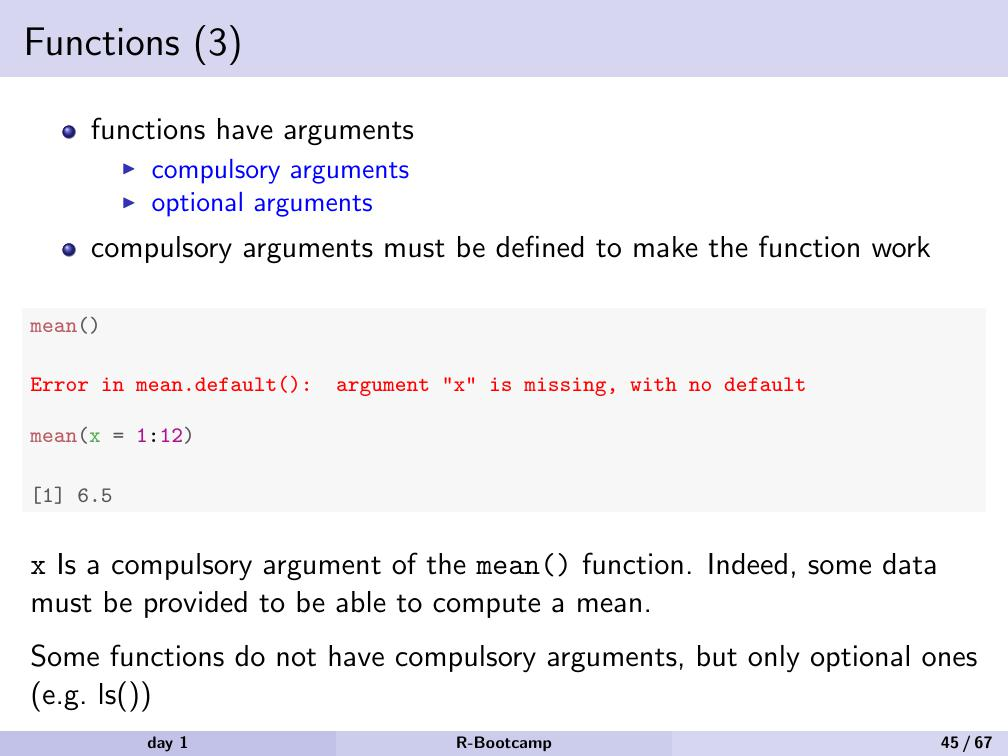Title: (17, 15, 245, 72)
